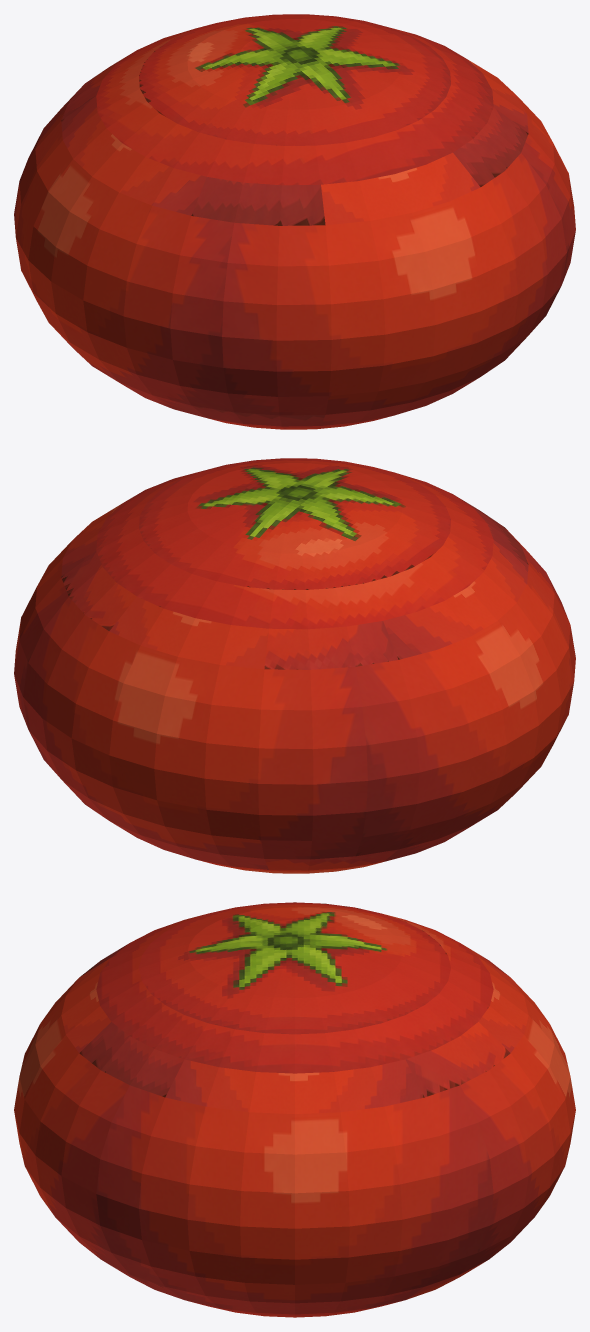
The model's file is salet1.fbx.
The picture shows the model from 3 angles, top to bottom: view 1: azimuth 30°, elevation 25°; view 2: azimuth 150°, elevation 25°; view 3: azimuth 270°, elevation 25°; orthographic projection.
Visible parts, largest first — view 1: Sphere; view 2: Sphere; view 3: Sphere.
Boxes of the visible parts, x1,y1,x2,y2 form: Sphere: [14, 14, 575, 429]; Sphere: [14, 458, 575, 873]; Sphere: [14, 902, 575, 1317].
Bounding box in the file's own units: 48.58 × 32.47 × 48.56.
Materials: 1 (1 with a texture image).
